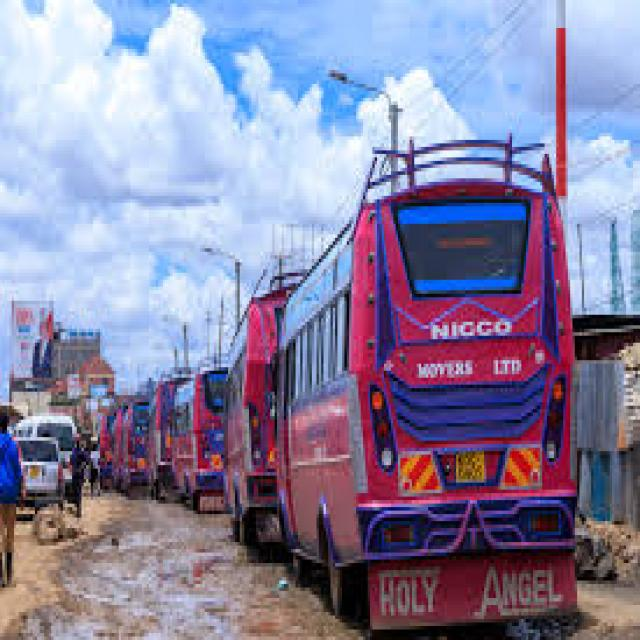bus: (267, 83, 622, 640)
